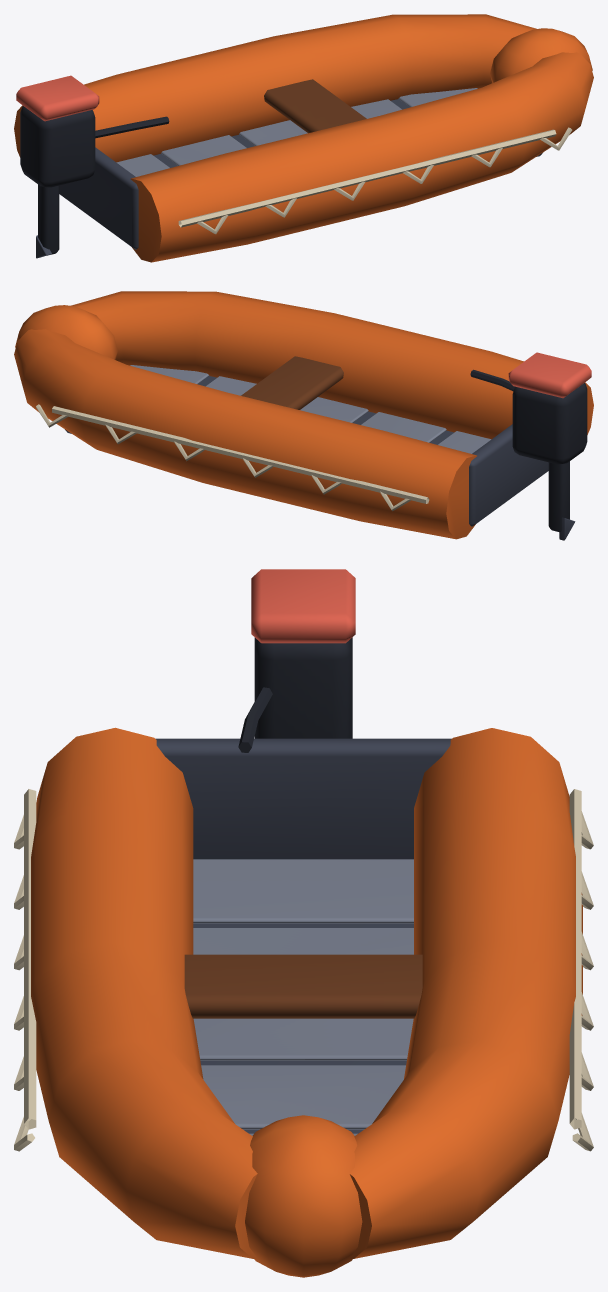
The model's file is SM_Prop_RescueBoat_Boat.fbx.
3 views of the same model, one above another, from view 1: azimuth 30°, elevation 25°; view 2: azimuth 150°, elevation 25°; view 3: azimuth 270°, elevation 25° (orthographic). The views are drawn at different scales.
Visible parts, largest first — view 1: SM_Prop_RescueBoat_Boat; view 2: SM_Prop_RescueBoat_Boat; view 3: SM_Prop_RescueBoat_Boat.
Part boxes in pixels (x1,y1,x2,y2): SM_Prop_RescueBoat_Boat: (14, 14, 593, 262); SM_Prop_RescueBoat_Boat: (14, 291, 593, 540); SM_Prop_RescueBoat_Boat: (14, 569, 593, 1277).
Size of the model in its own units: 359 by 102 by 179.
